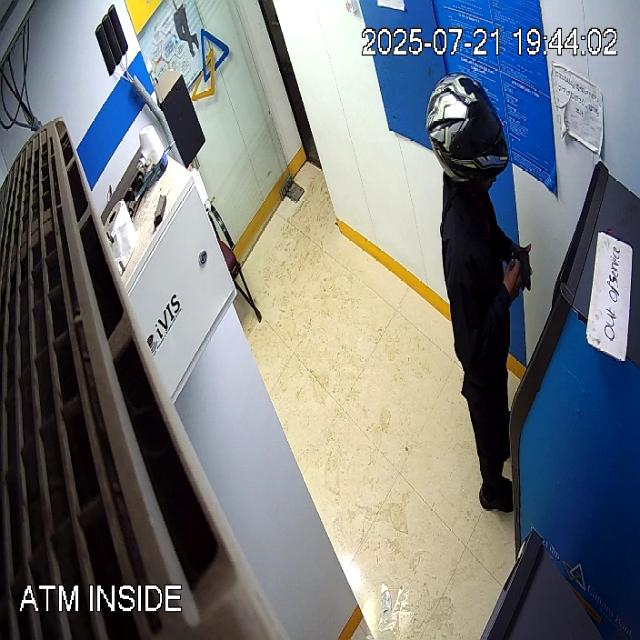helmet: (425, 73, 507, 192)
